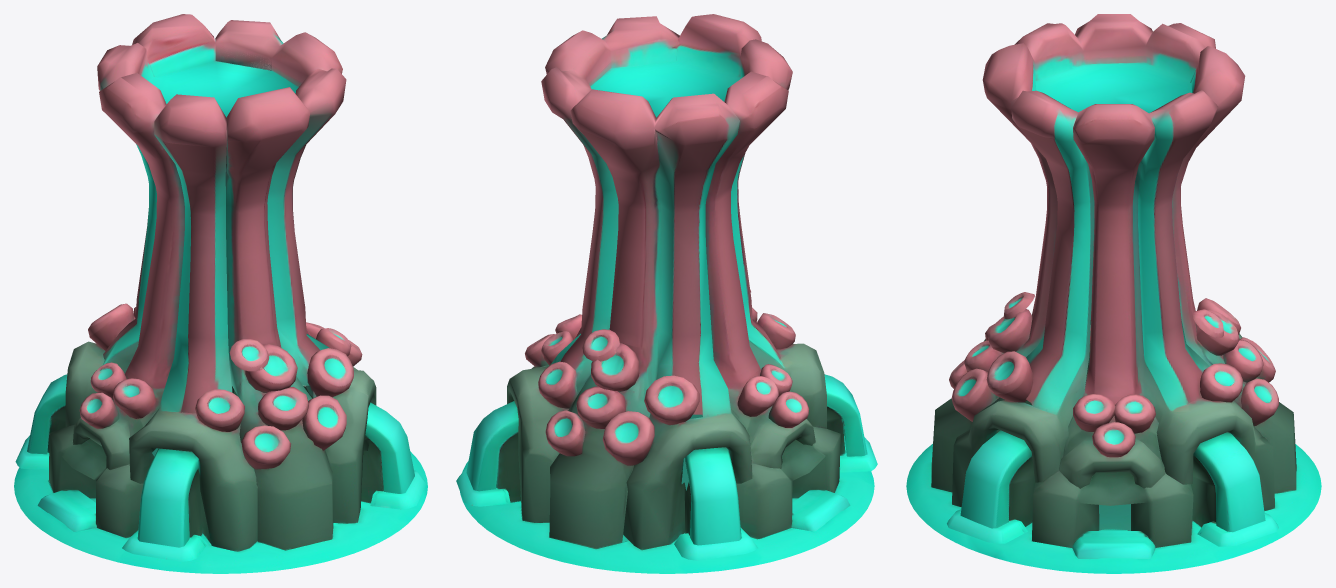
The model's file is water_tidepool.glb.
3 views of the same model, side by side, from view 1: azimuth 30°, elevation 25°; view 2: azimuth 150°, elevation 25°; view 3: azimuth 270°, elevation 25° (orthographic).
Visible parts, largest first — view 1: tripo_node_39b2e984-99ce-48a3-b0e1-6874dec437c1; view 2: tripo_node_39b2e984-99ce-48a3-b0e1-6874dec437c1; view 3: tripo_node_39b2e984-99ce-48a3-b0e1-6874dec437c1.
Part boxes in pixels (x1,y1,x2,y2): tripo_node_39b2e984-99ce-48a3-b0e1-6874dec437c1: (14,14,427,573); tripo_node_39b2e984-99ce-48a3-b0e1-6874dec437c1: (456,14,877,573); tripo_node_39b2e984-99ce-48a3-b0e1-6874dec437c1: (906,14,1321,573).
Size of the model in its own units: 0.8657 by 0.9995 by 0.8657.
Materials: 1 (1 with a texture image).
